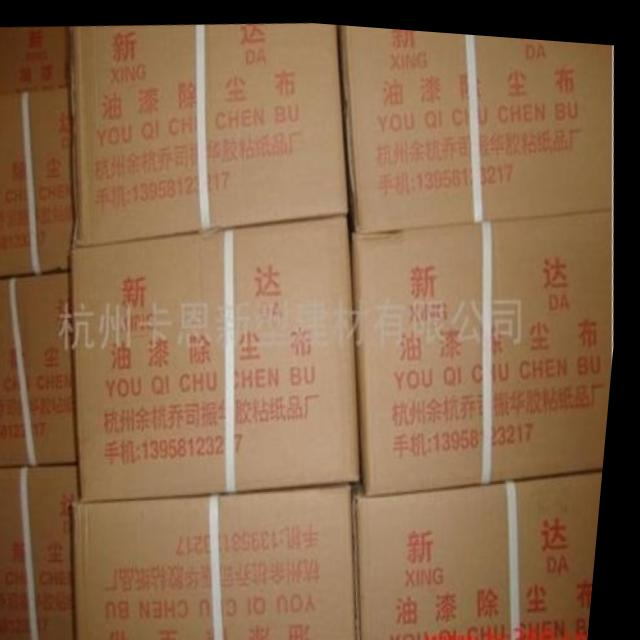box: (75, 208, 372, 496), (357, 199, 618, 487), (69, 18, 354, 247), (336, 20, 615, 227), (82, 476, 368, 640), (359, 459, 611, 640), (0, 267, 87, 467), (0, 461, 91, 640), (0, 86, 78, 279)
